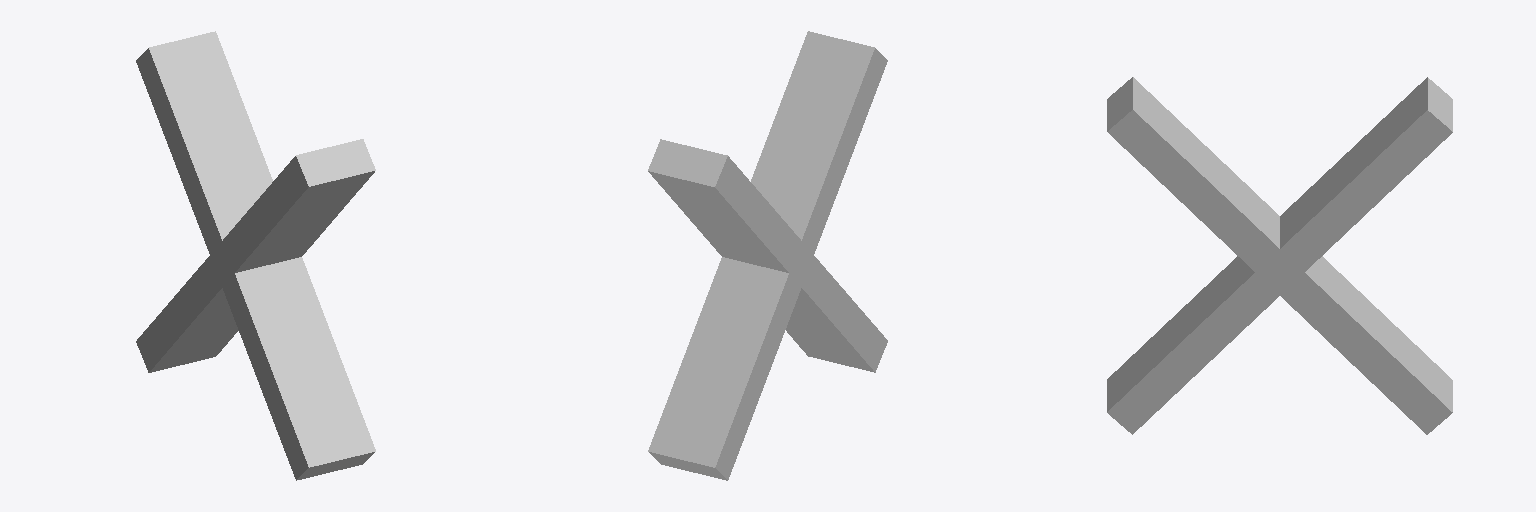
Rendered from cross.obj.
The picture shows the model from 3 angles: view 1: azimuth 30°, elevation 25°; view 2: azimuth 150°, elevation 25°; view 3: azimuth 270°, elevation 25°; orthographic projection.
Visible parts, largest first — view 1: cross; view 2: cross; view 3: cross.
Part boxes in pixels (bbox=[...]): cross: bbox=[136, 31, 375, 480]; cross: bbox=[648, 31, 887, 480]; cross: bbox=[1107, 77, 1452, 434].
Bounding box in the file's own units: 0.7822 × 3.61 × 3.48.